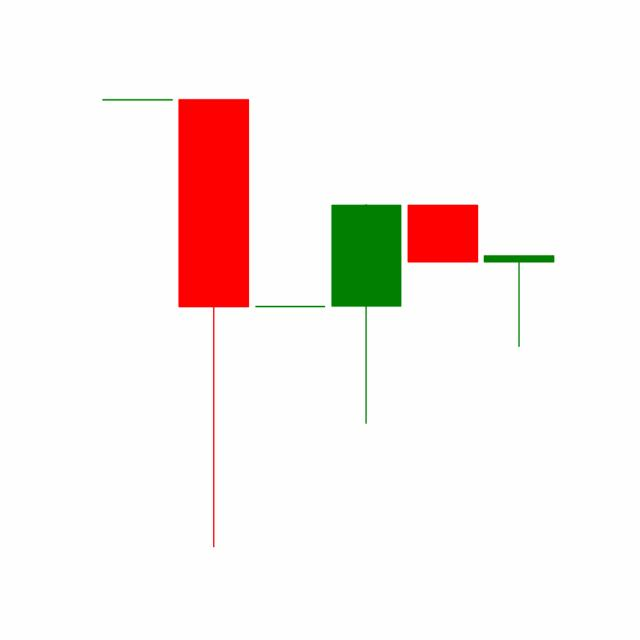Marubozu: (403, 204, 481, 264)
